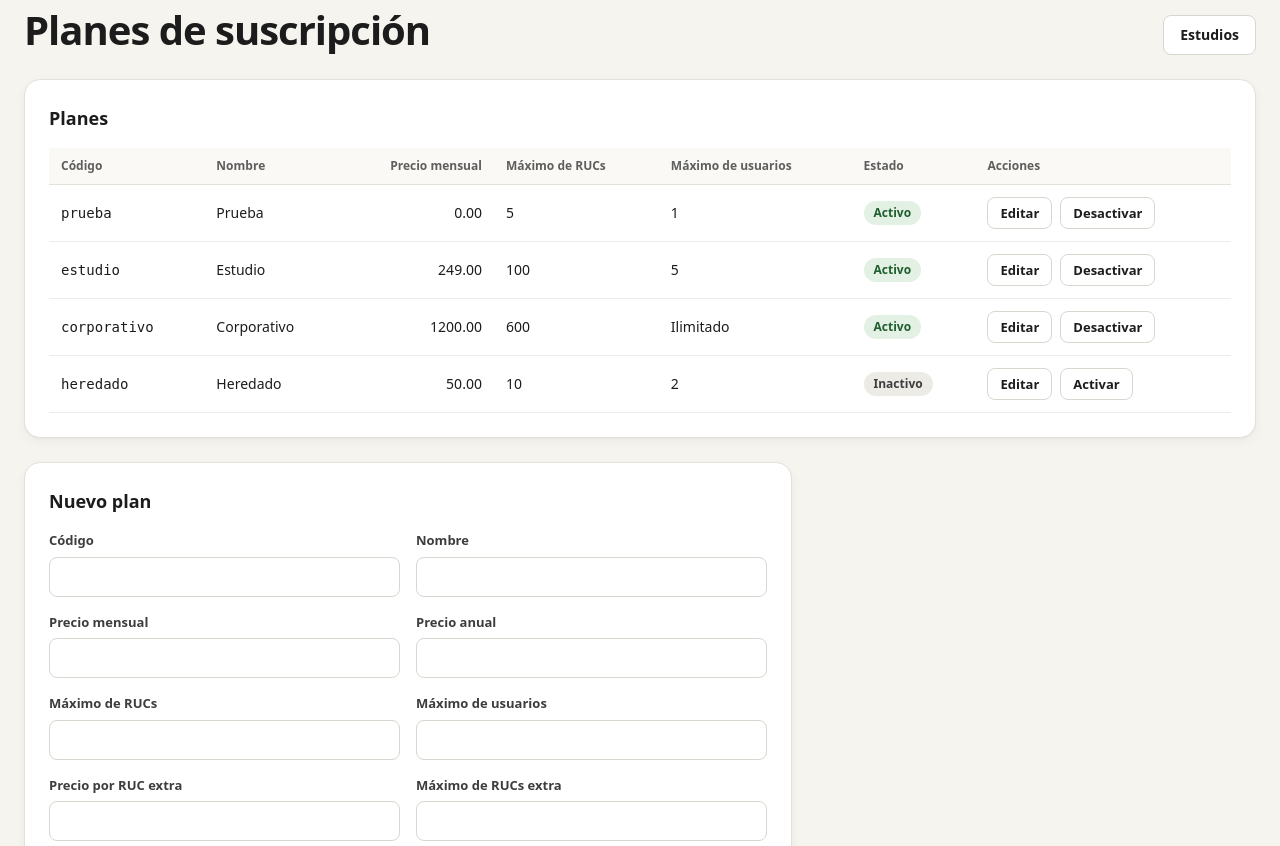
Scenario: /admin/planes › editar: 400 del servidor → planInvalido y 404 → noEncontrado
The image size is (1280, 846).
Click the button "Editar" in the row of "249.00" at (1020, 270), box x1=988 y1=254 x2=1052 y2=286
(page scrolled)
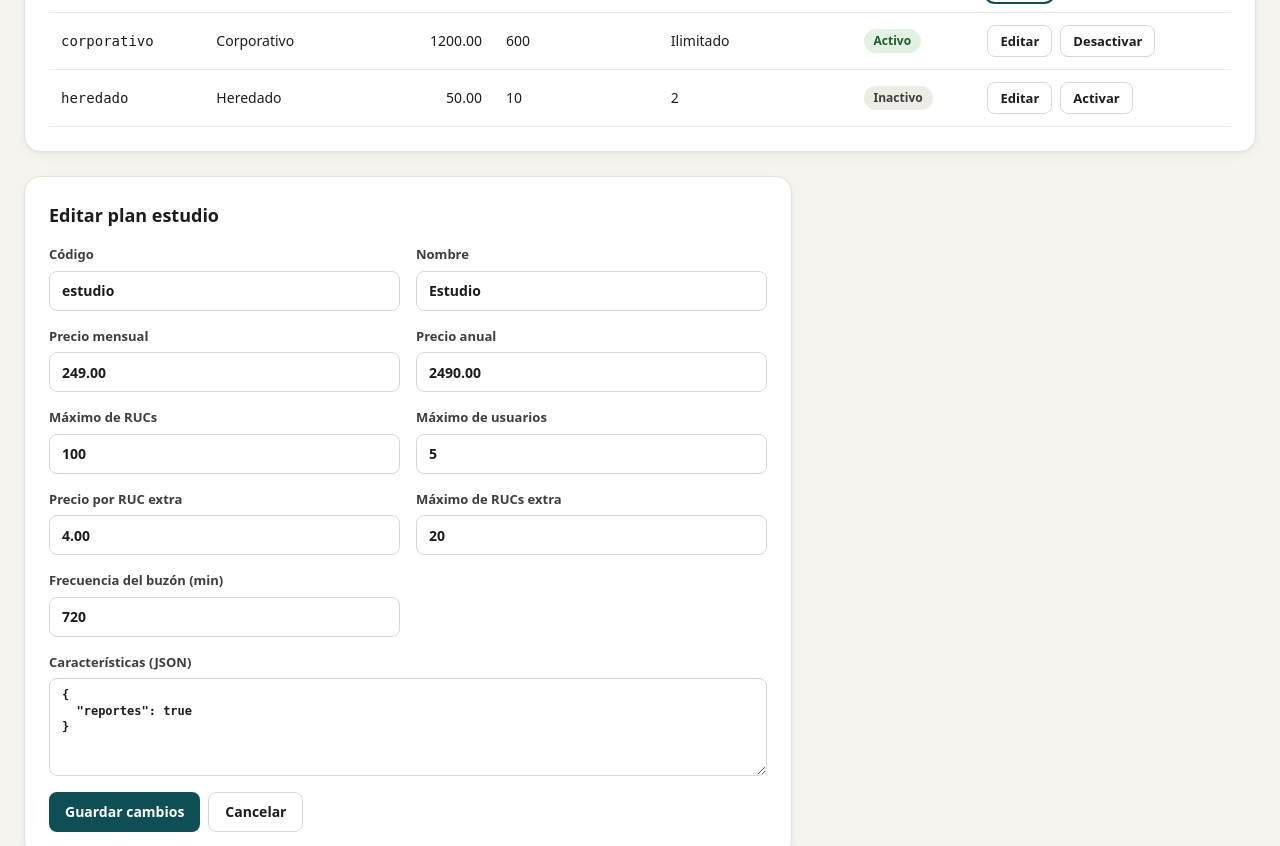
Click the button "Guardar cambios" at (125, 812), box x1=49 y1=792 x2=200 y2=832
(page scrolled)
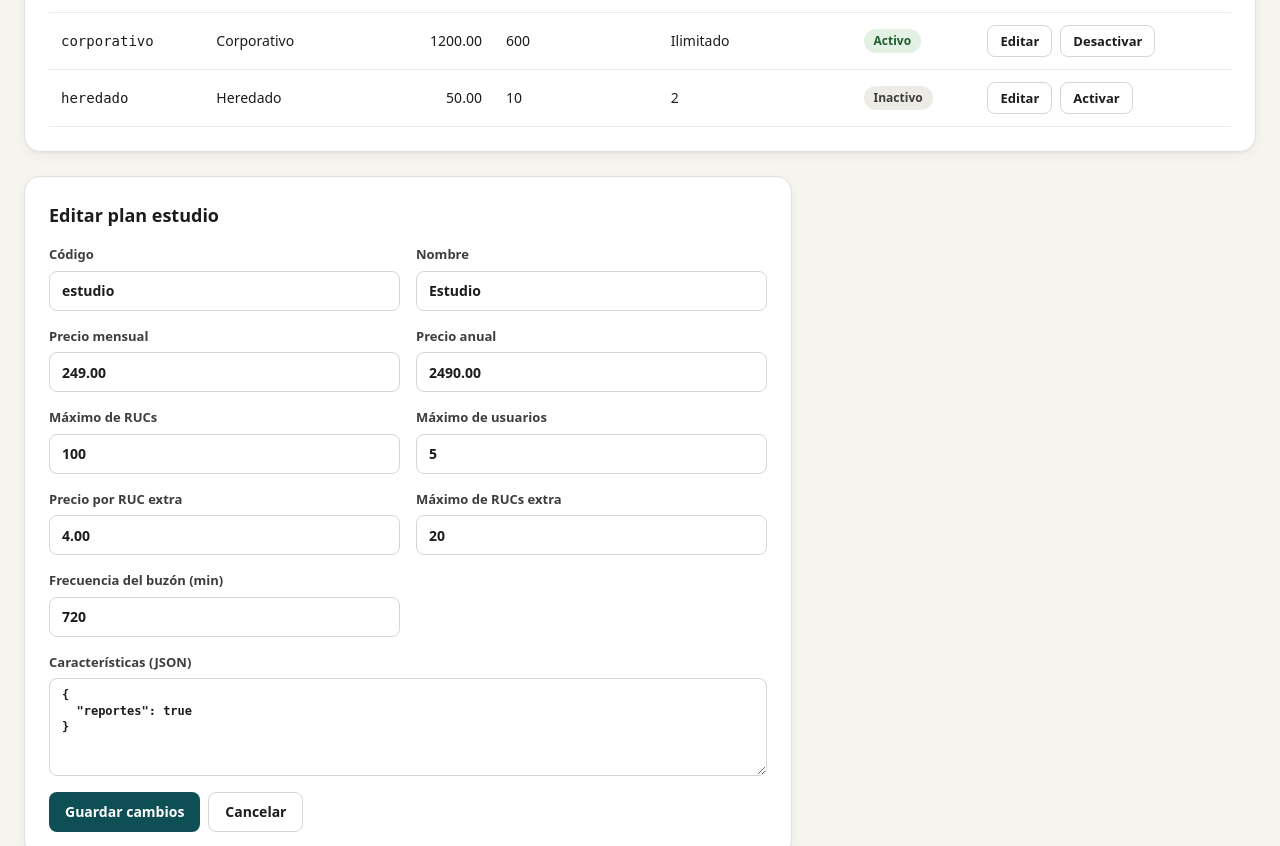
Click the button "Guardar cambios" at (125, 812), box x1=49 y1=792 x2=200 y2=832
(page scrolled)
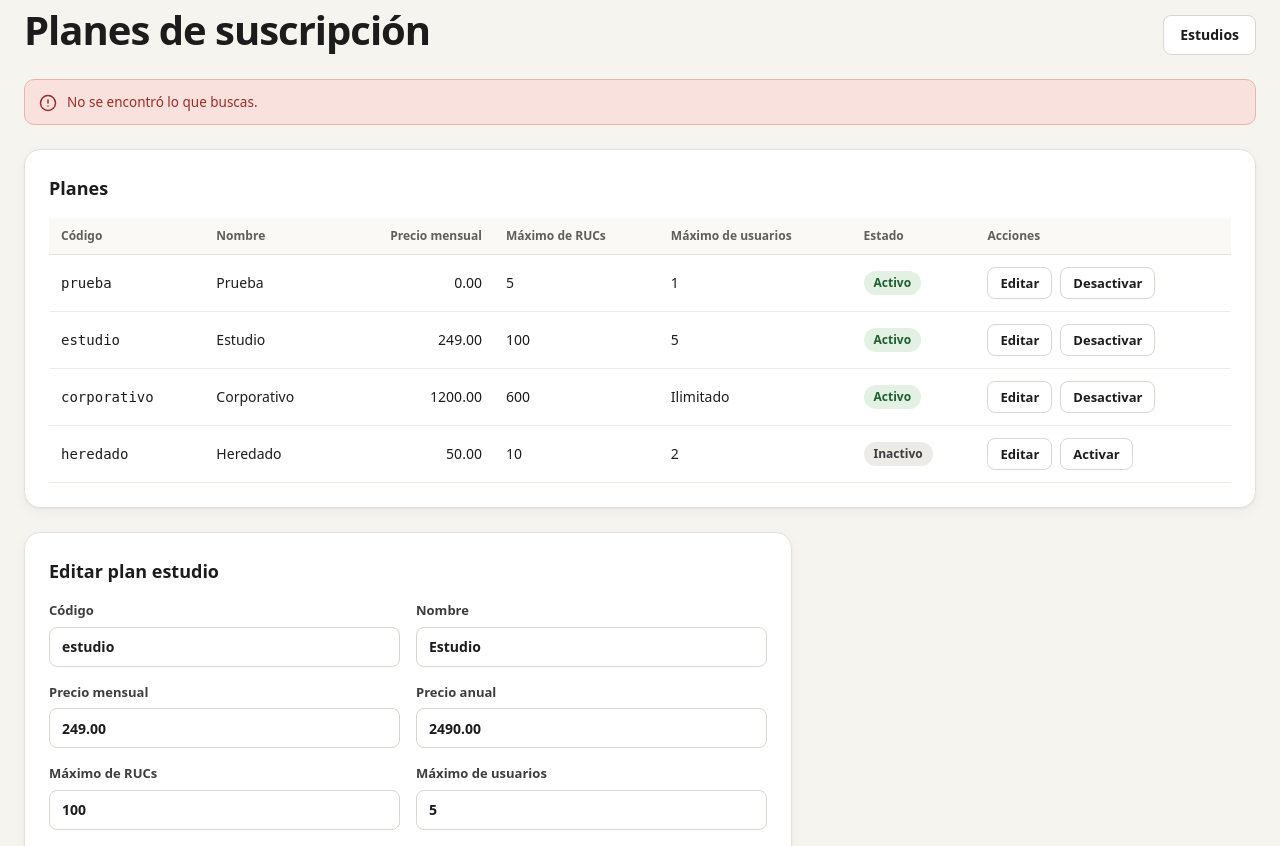
Expected: the text "No se encontró lo que buscas." is shown, x1=67 y1=92 x2=258 y2=112
